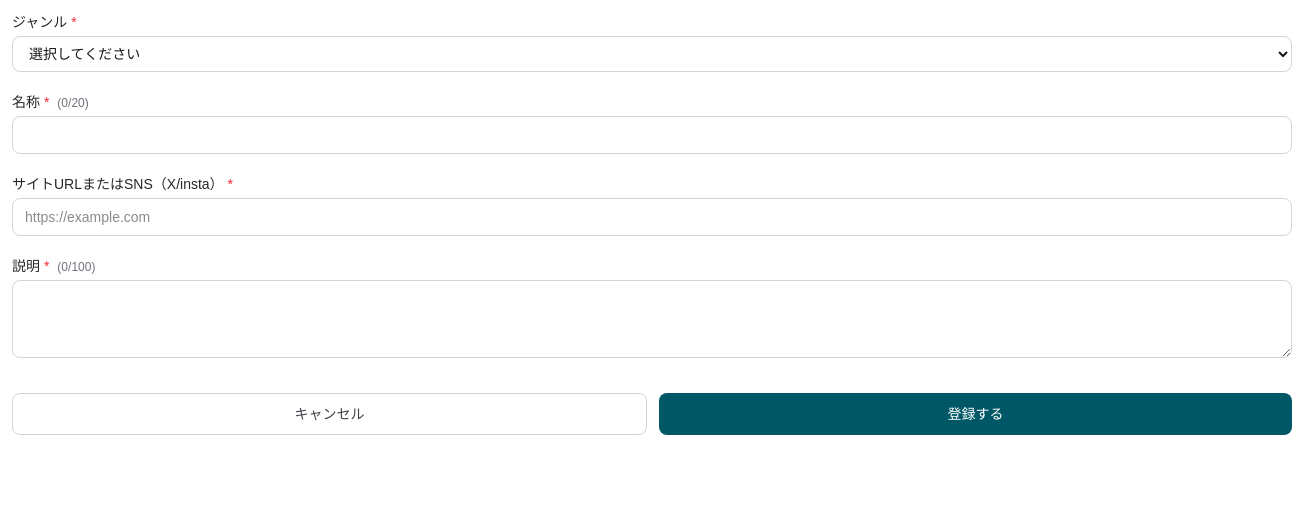
it: ListingForm › URL フォーマット不正ならエラー
Type "T" into the 1st field at (652, 135), box [12,116,1292,154]
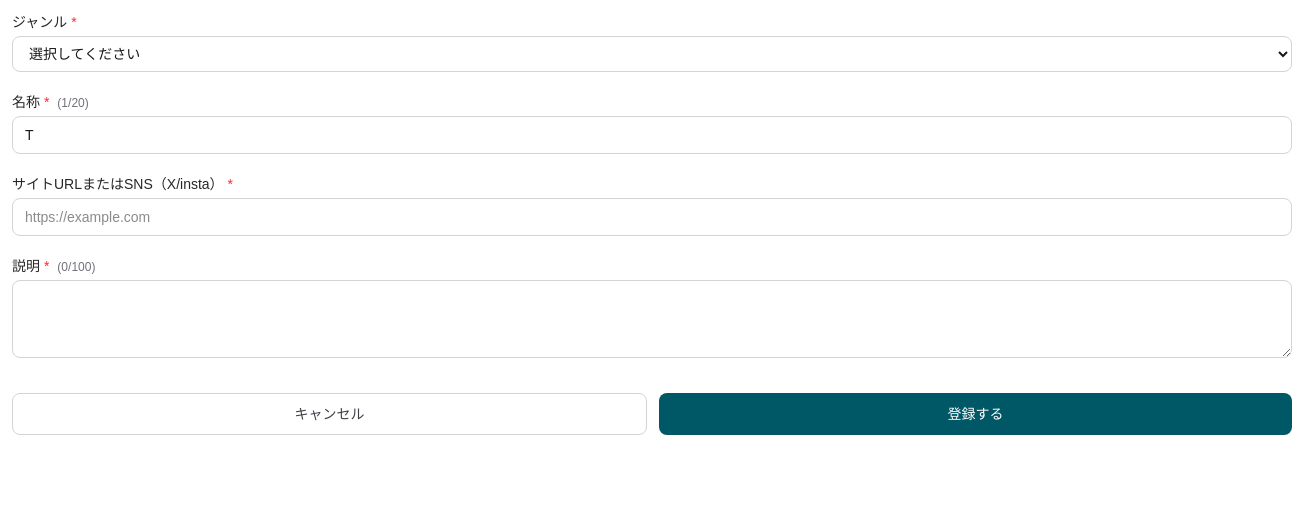
Type "D" into the text box at (652, 319), box [12,280,1292,358]
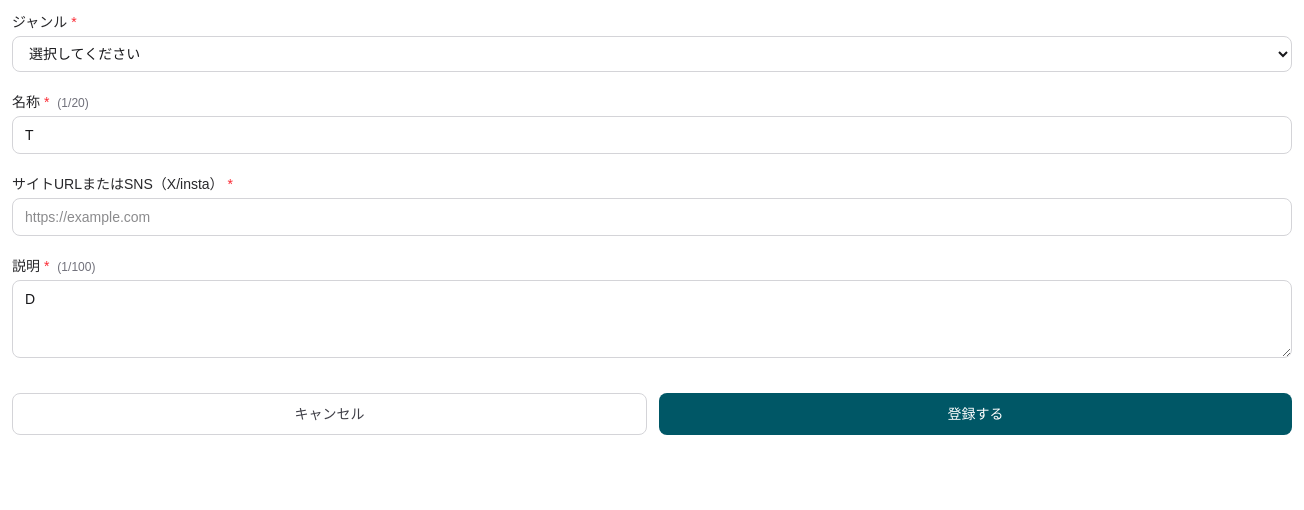
Type "ftp://bad" into the field with placeholder "https://example.com" at (652, 217), box [12,198,1292,236]
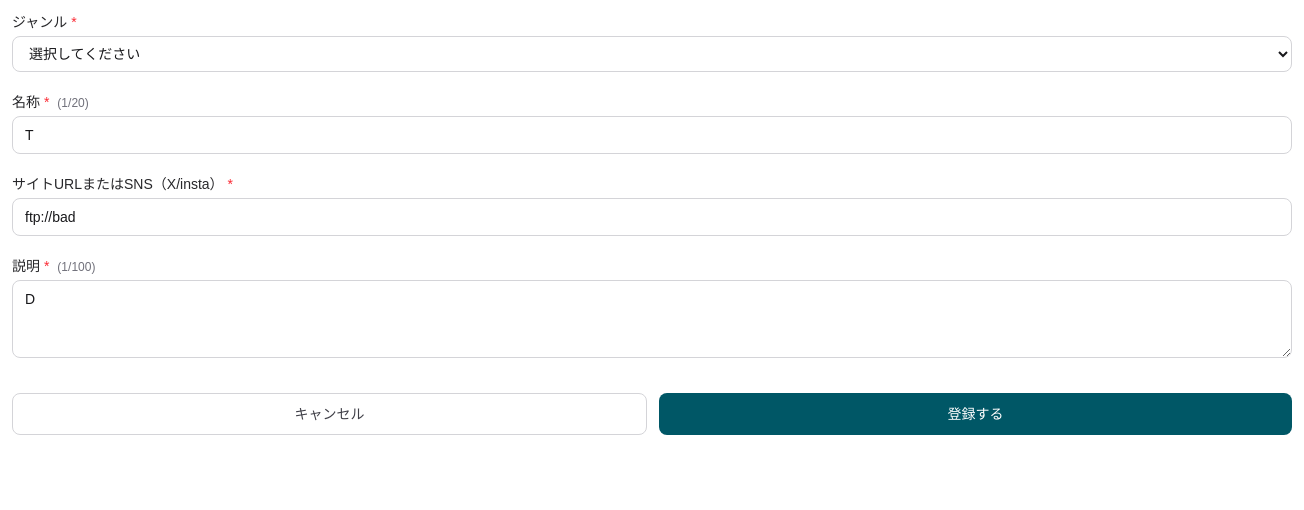
Click the button "登録する" at (976, 414), box [659,393,1292,435]
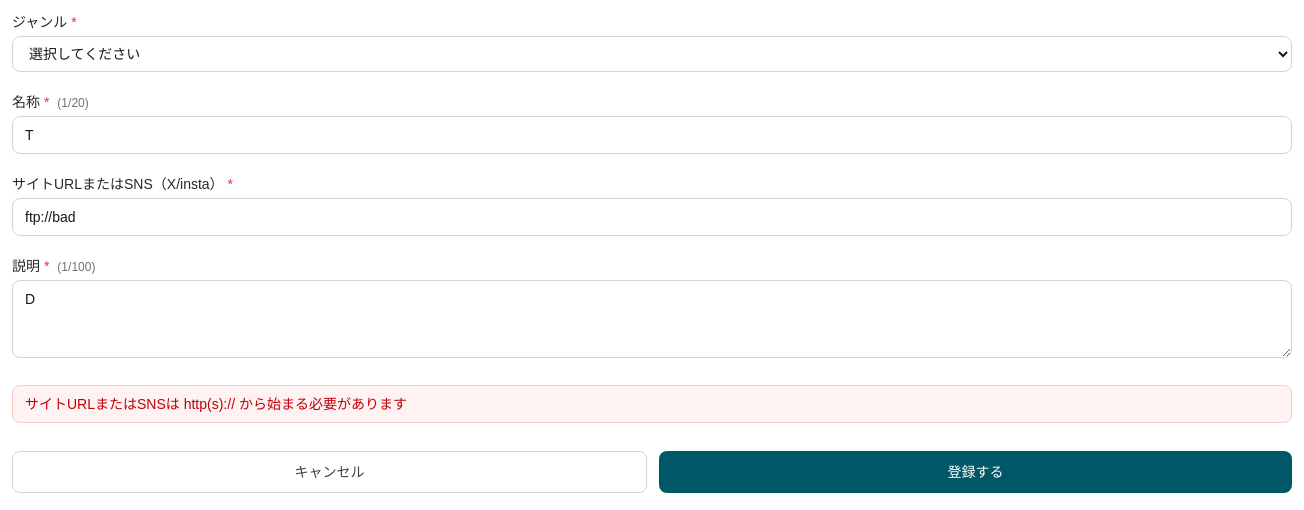
Expected: the text "サイトURLまたはSNSは http(s):// から始まる必要があります" is shown, [12,385,1292,423]
